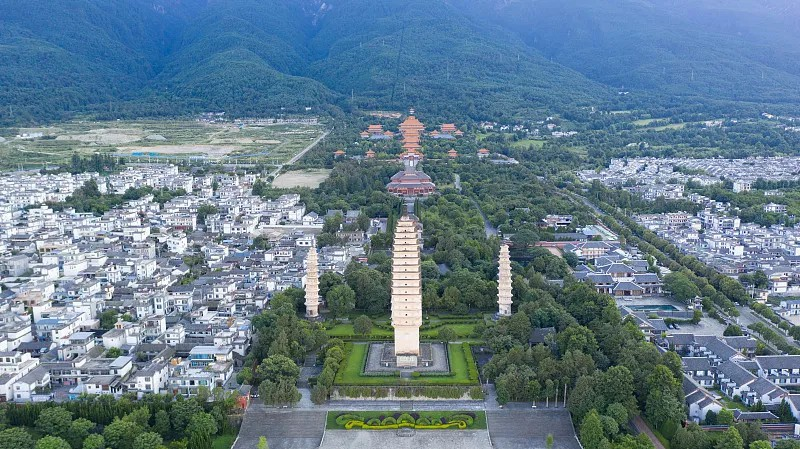ThreePagoda: (389, 204, 422, 356)
